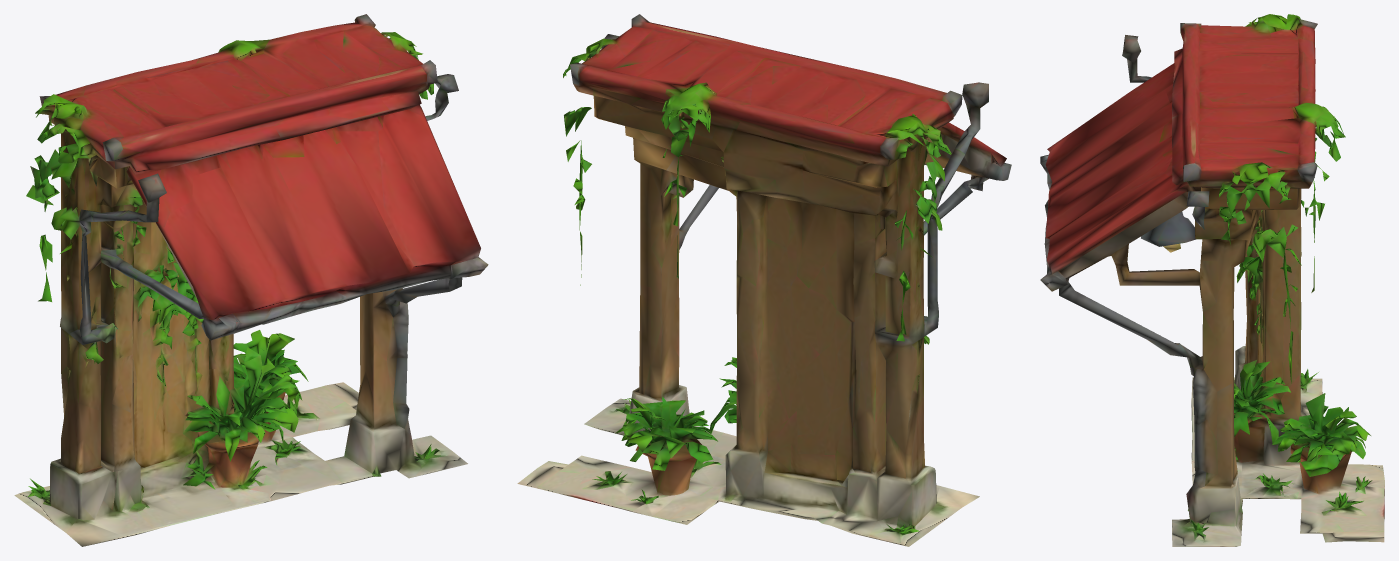
File: env_arch.glb
3 renders of one model, left to right at view 1: azimuth 30°, elevation 25°; view 2: azimuth 150°, elevation 25°; view 3: azimuth 270°, elevation 25°, orthographic. The views are drawn at different scales.
Visible parts, largest first — view 1: tripo_node_1c274b7e-7f41-4c66-a20e-2b5a91ece0d9; view 2: tripo_node_1c274b7e-7f41-4c66-a20e-2b5a91ece0d9; view 3: tripo_node_1c274b7e-7f41-4c66-a20e-2b5a91ece0d9.
Boxes of the visible parts, <box> form: tripo_node_1c274b7e-7f41-4c66-a20e-2b5a91ece0d9: <box>14,14,488,546</box>; tripo_node_1c274b7e-7f41-4c66-a20e-2b5a91ece0d9: <box>517,14,1011,546</box>; tripo_node_1c274b7e-7f41-4c66-a20e-2b5a91ece0d9: <box>1040,14,1384,546</box>.
Size of the model in its own units: 0.9473 by 0.9715 by 0.8084.
Materials: 1 (1 with a texture image).
